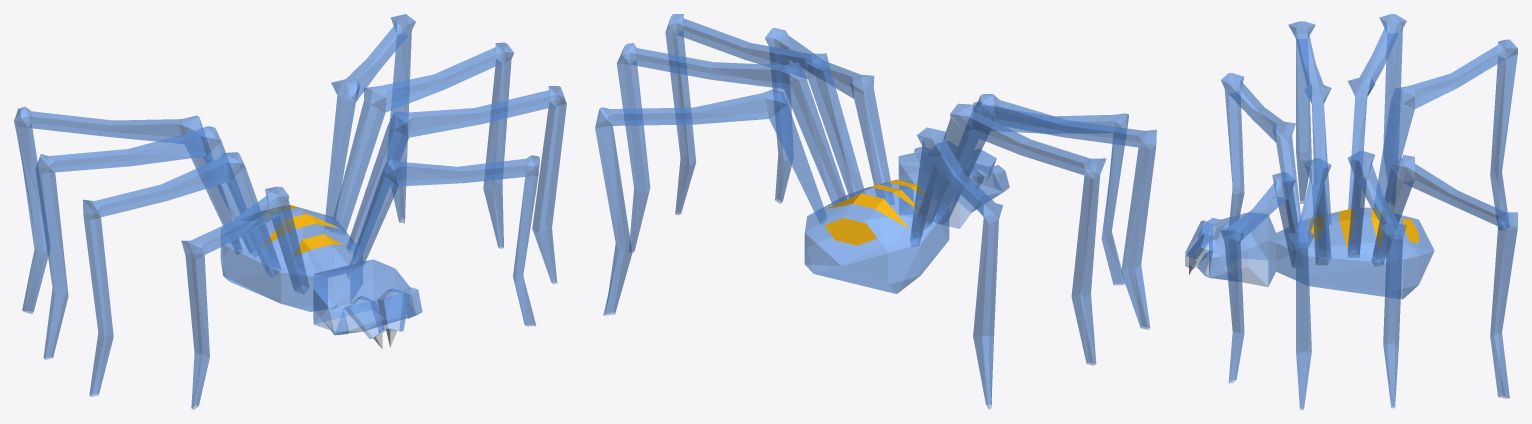
Rendered from model_2885_npc.obj.
The picture shows the model from 3 angles, left to right: view 1: azimuth 30°, elevation 25°; view 2: azimuth 150°, elevation 25°; view 3: azimuth 270°, elevation 25°; orthographic projection. The views are drawn at different scales.
Parts seen in each view (by area): view 1: 2885; view 2: 2885; view 3: 2885.
Boxes of the visible parts, x1,y1,x2,y2 form: 2885: (14, 14, 566, 409); 2885: (595, 14, 1156, 409); 2885: (1185, 14, 1517, 409).
Size of the model in its own units: 128 by 55 by 84.
